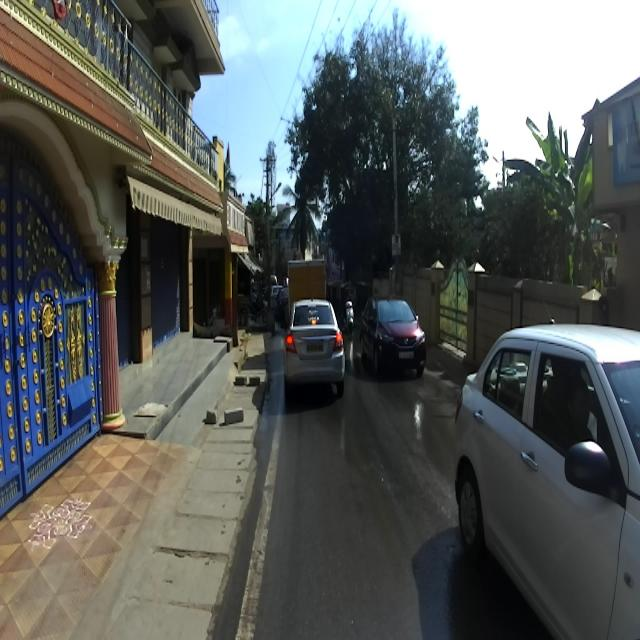car: (452, 298, 640, 637), (282, 291, 344, 397), (357, 293, 425, 380)
